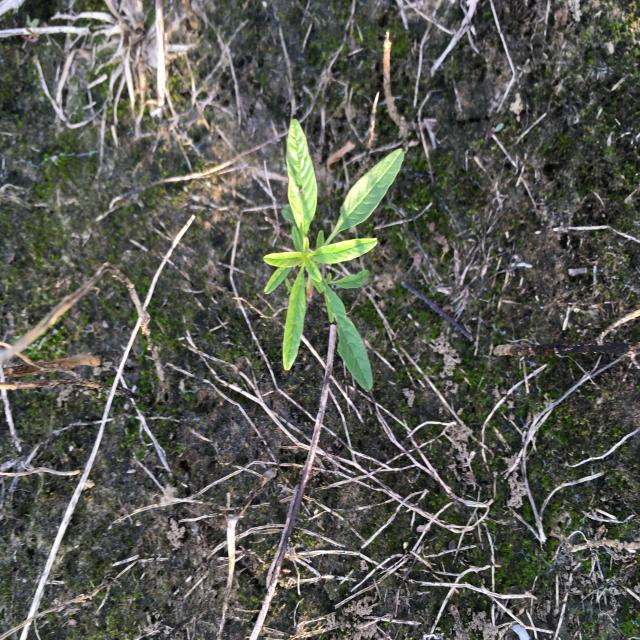Waterhemp: (262, 117, 406, 394)
